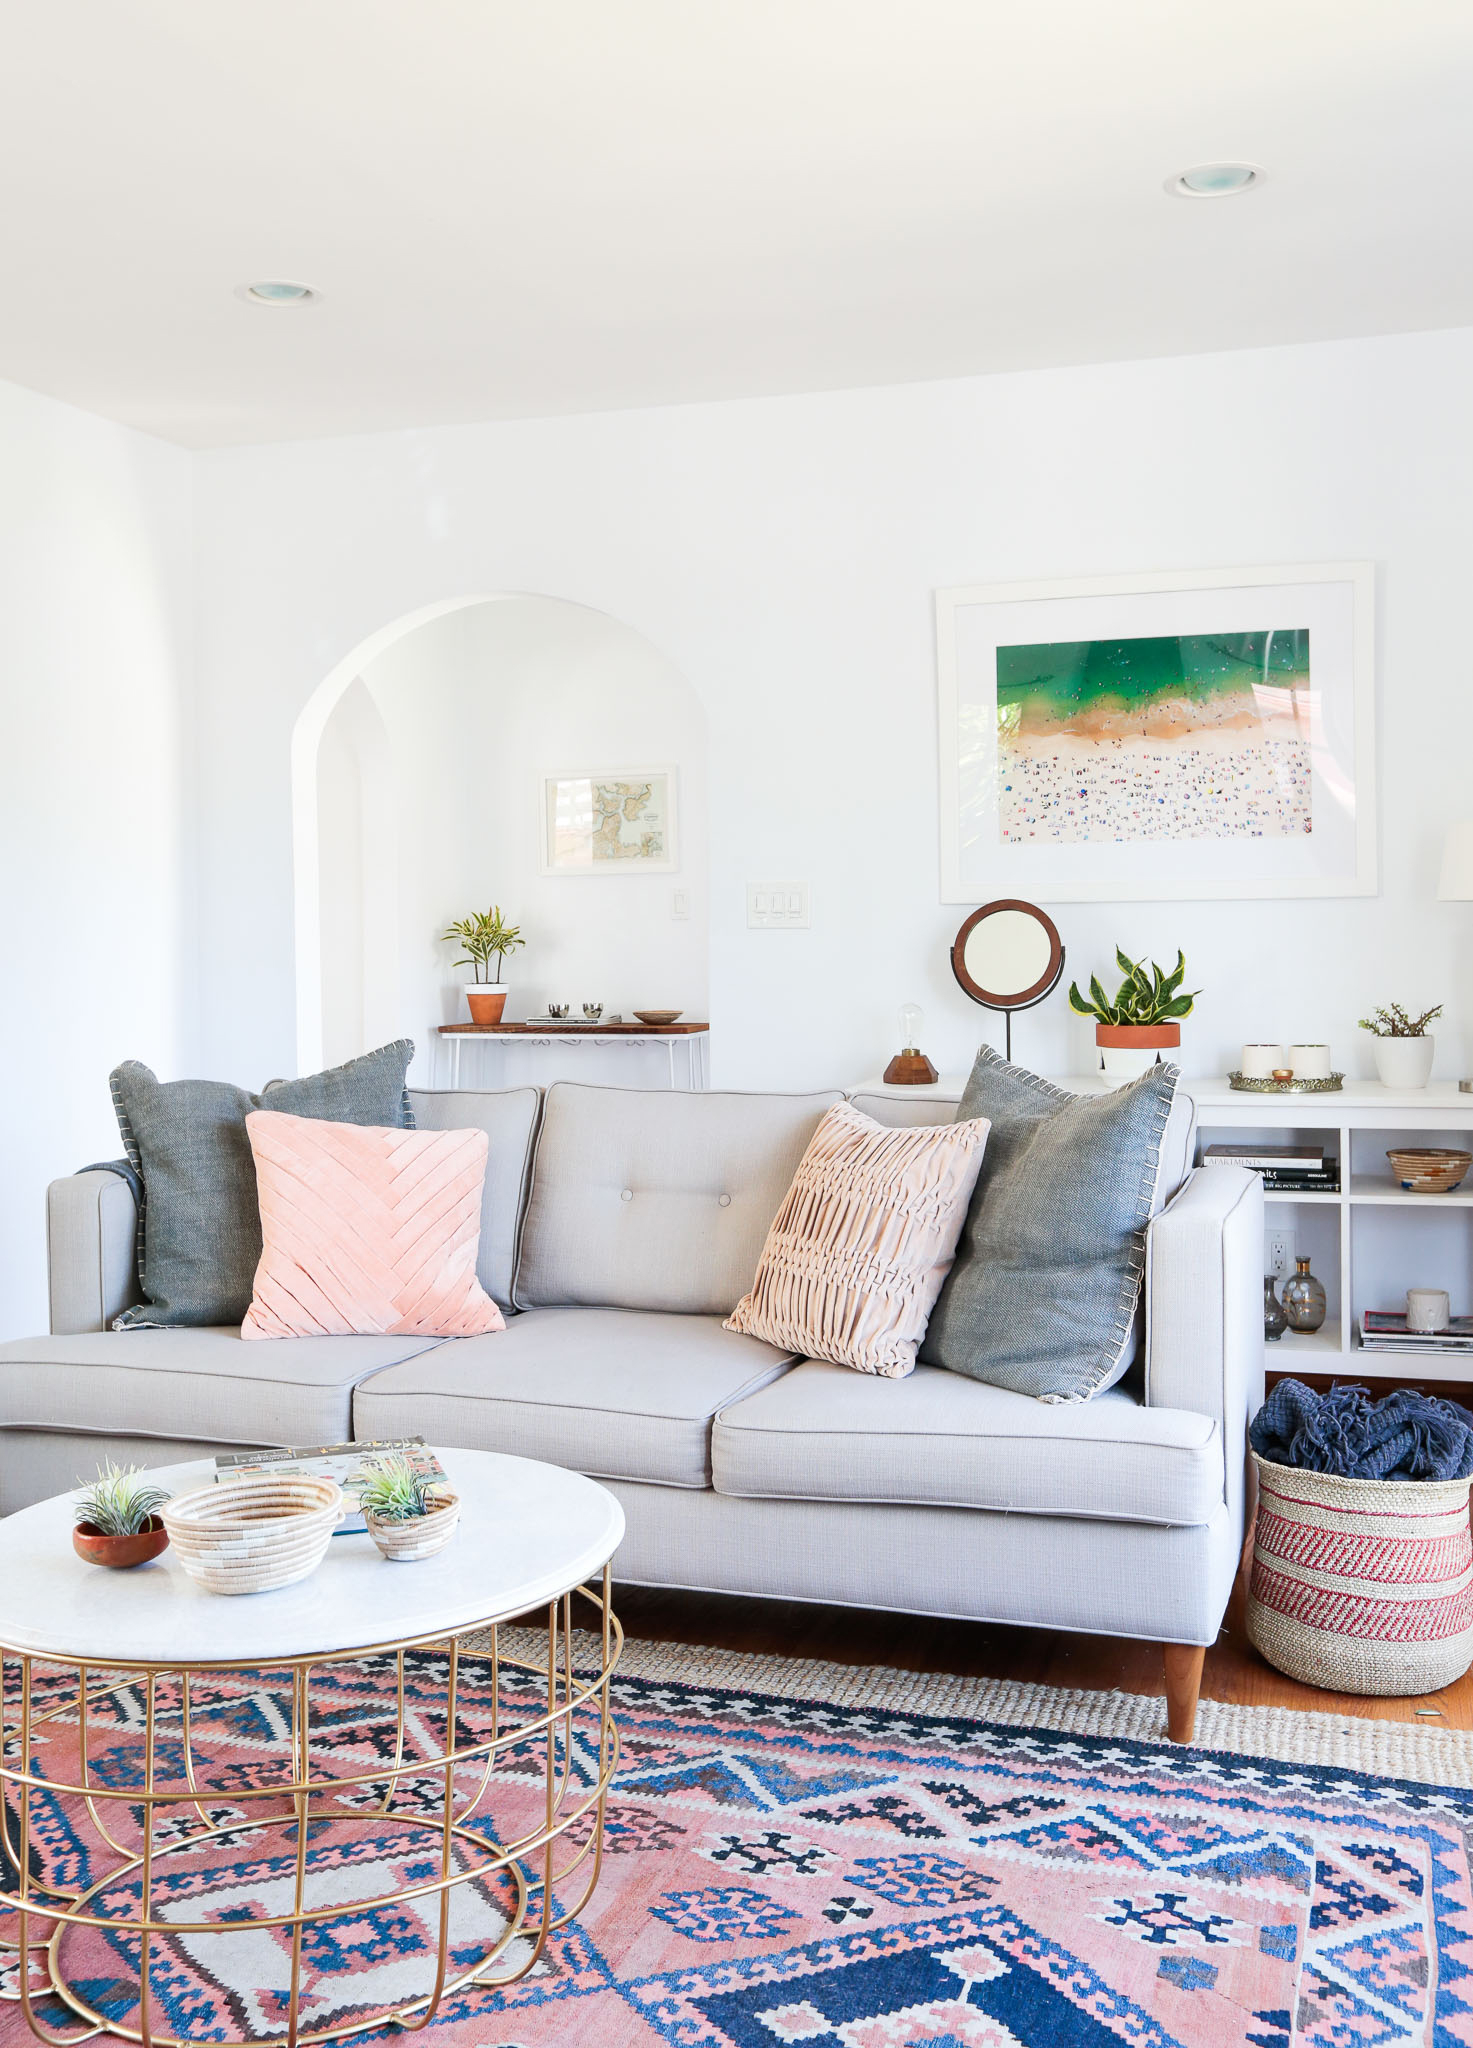biru: (1268, 1382, 1473, 1491)
coklat: (75, 1526, 169, 1576), (468, 992, 512, 1026)
pink: (247, 1108, 488, 1337)
putih: (2, 1436, 628, 1620), (1374, 1037, 1436, 1086), (1405, 1288, 1449, 1337), (1288, 1045, 1335, 1084), (1242, 1040, 1285, 1080)
